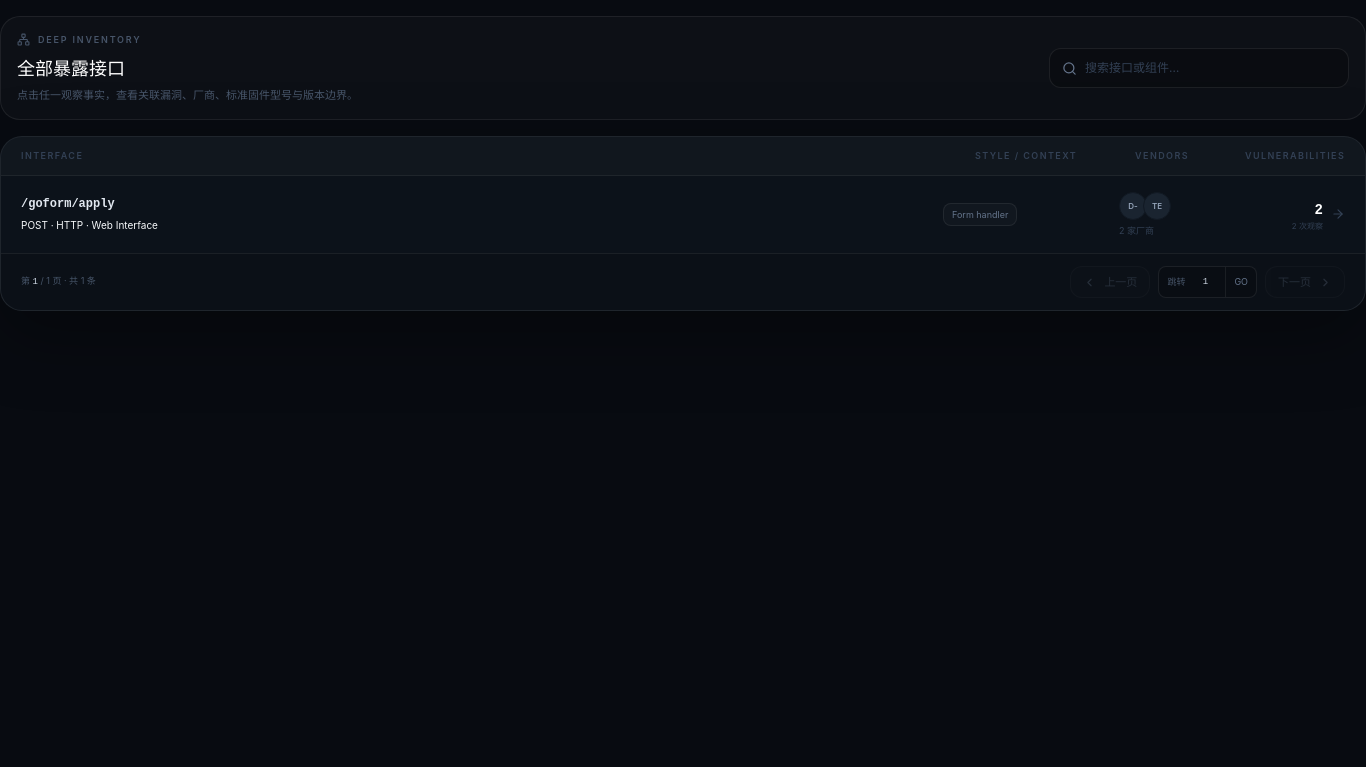
Test: drills from an interface into associated vendors and firmware
Click the button "/goform/apply": (68, 204) [1, 176, 1365, 253]
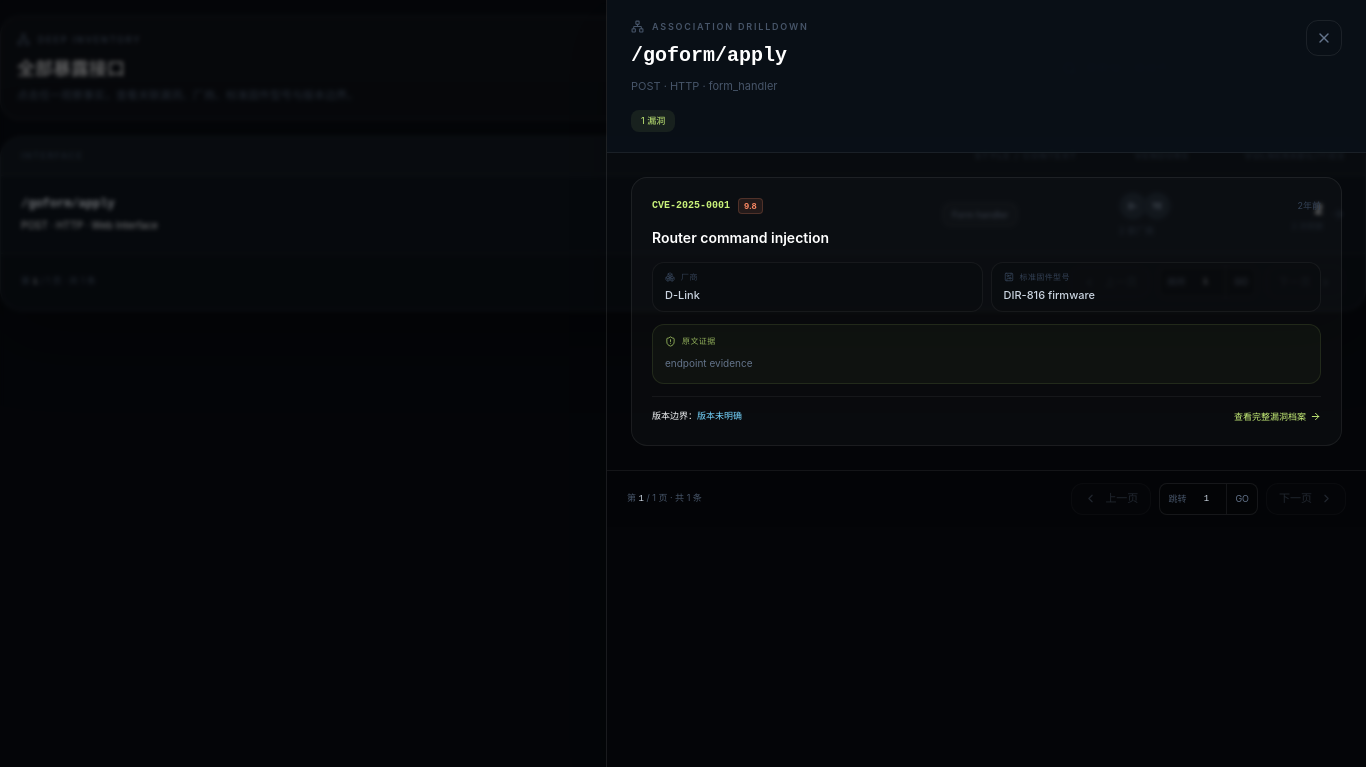
Now the text "DIR-816 firmware" is shown, box [1004, 288, 1095, 302]
Now the text "D-Link" is shown, box [665, 288, 700, 302]
Now the text "endpoint evidence" is shown, box [665, 357, 752, 369]
Click the button that starts with "CVE-2025-0001": (986, 311) [631, 176, 1342, 446]
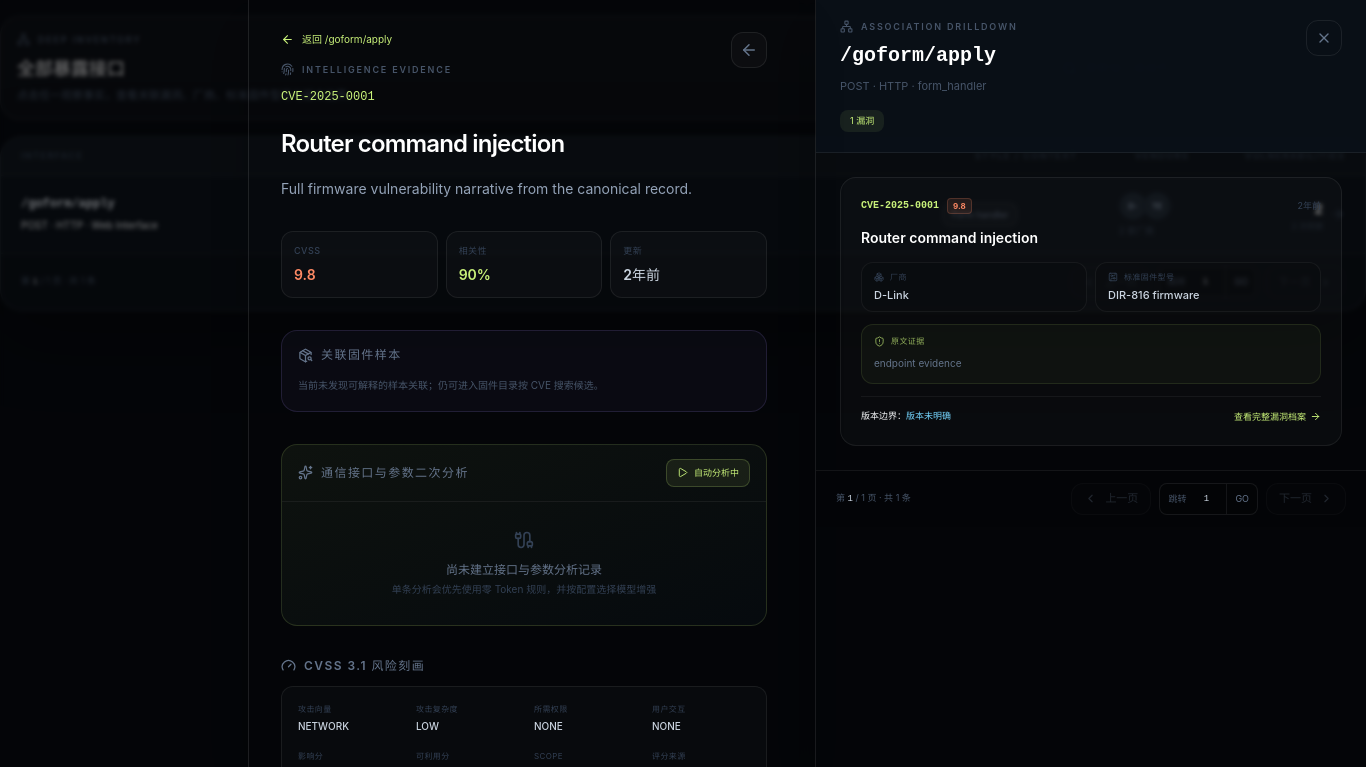
Now the text "Full firmware vulnerability narrative from the canonical record." is shown, box [281, 180, 692, 196]
Now the button "返回 /goform/apply" is shown, box [281, 32, 392, 47]
Click the button named "返回上一级": (749, 50) [731, 32, 767, 68]
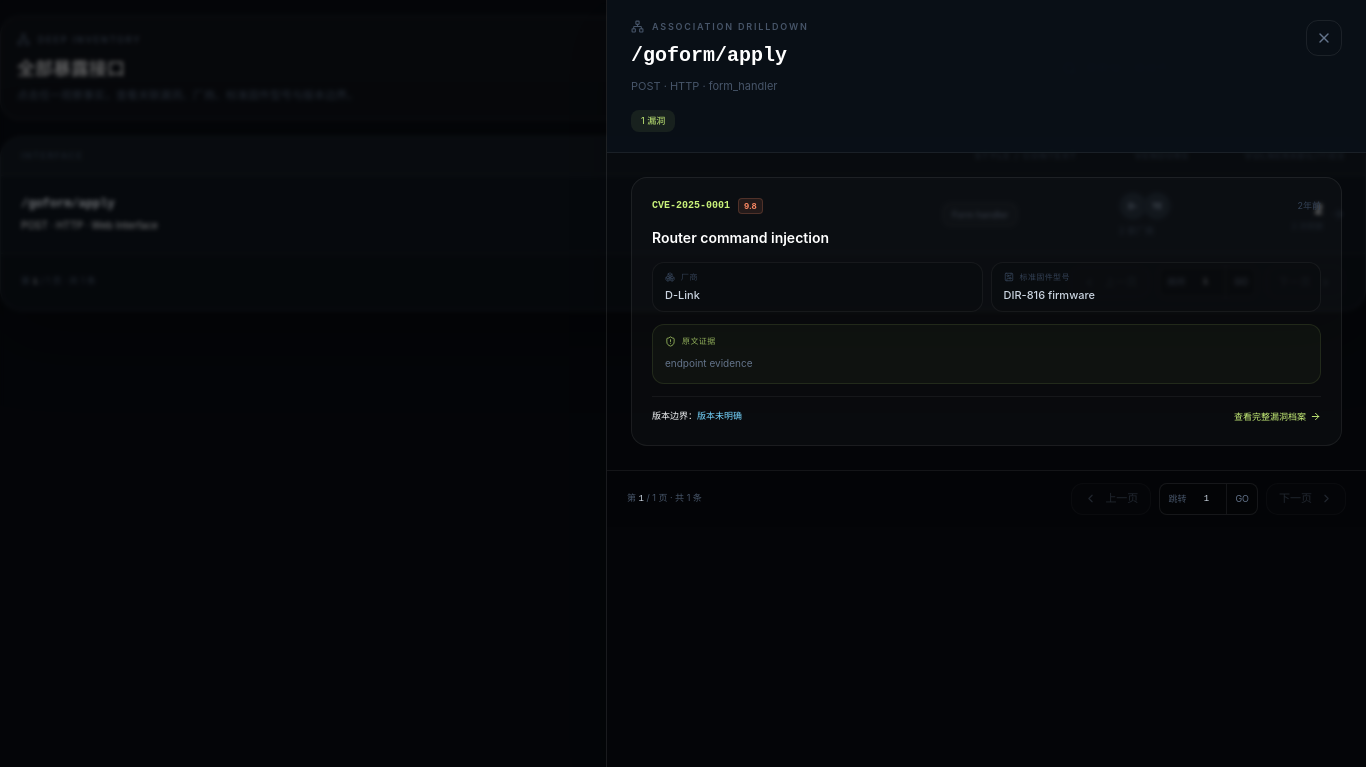
Now the text "DIR-816 firmware" is shown, box [1004, 288, 1095, 302]
Now the text "Full firmware vulnerability narrative from the canonical record." is gone
